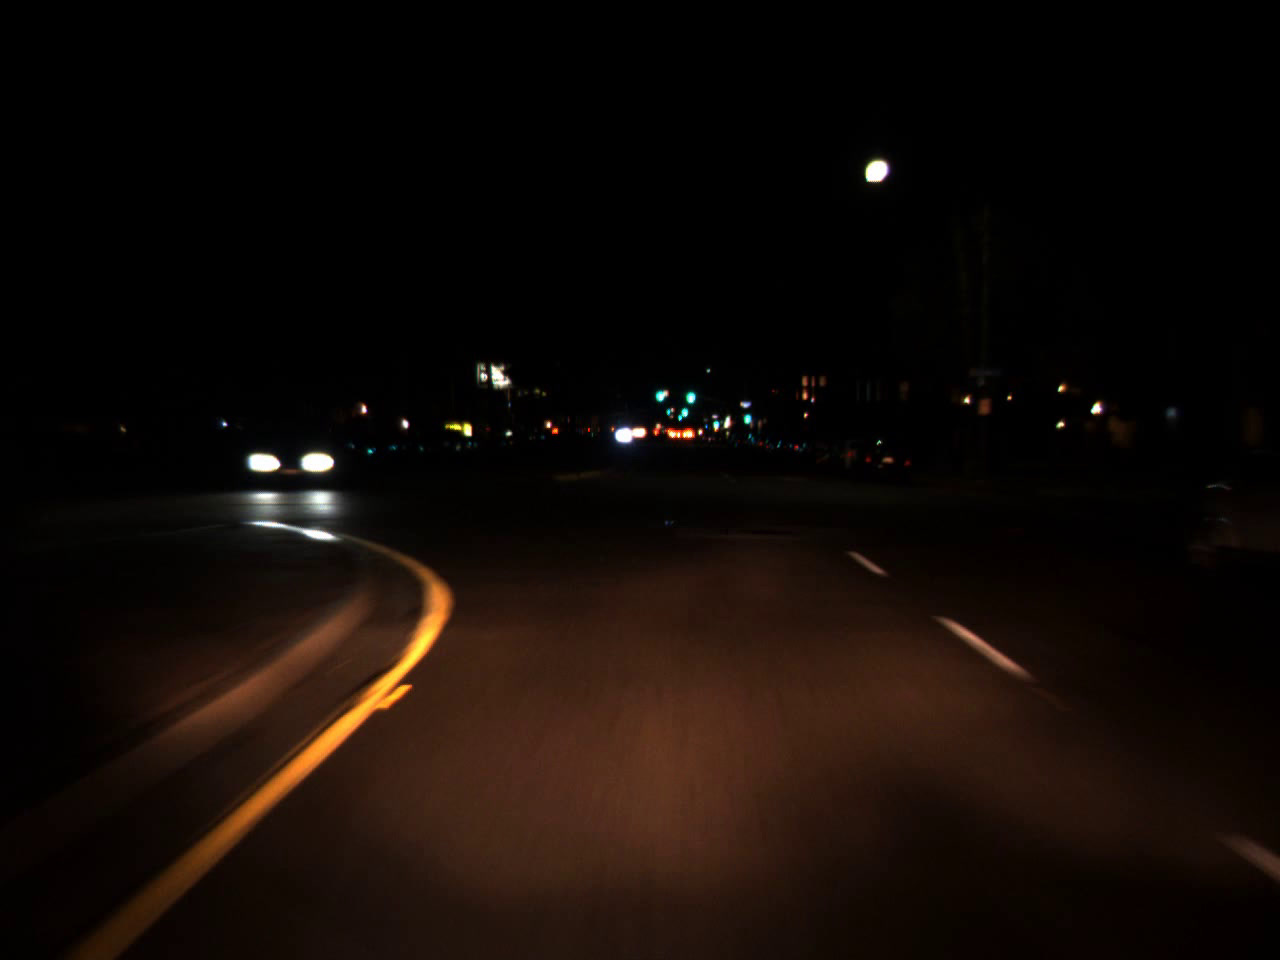go: (652, 378, 666, 405), (683, 380, 695, 407), (741, 405, 751, 426), (679, 401, 689, 419), (710, 413, 719, 428), (676, 408, 683, 419)
